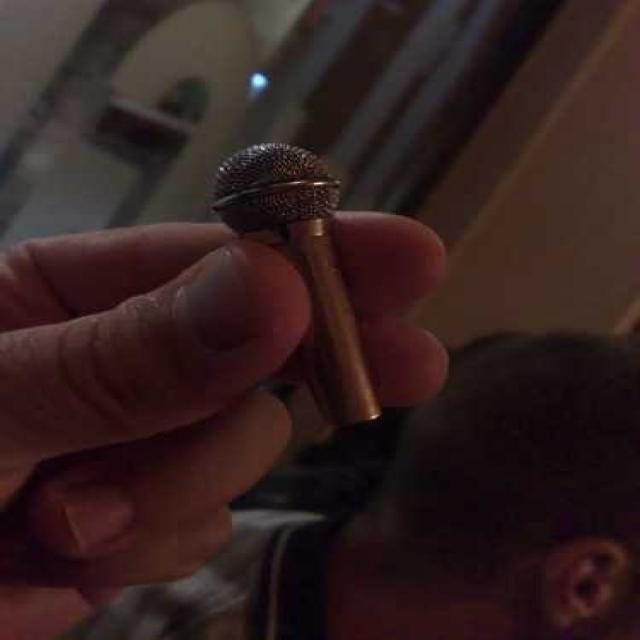microphone: (203, 138, 388, 429)
